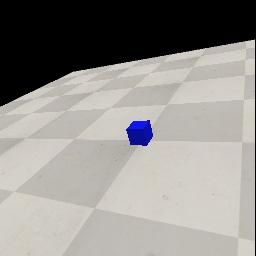box: (126, 120, 153, 146)
